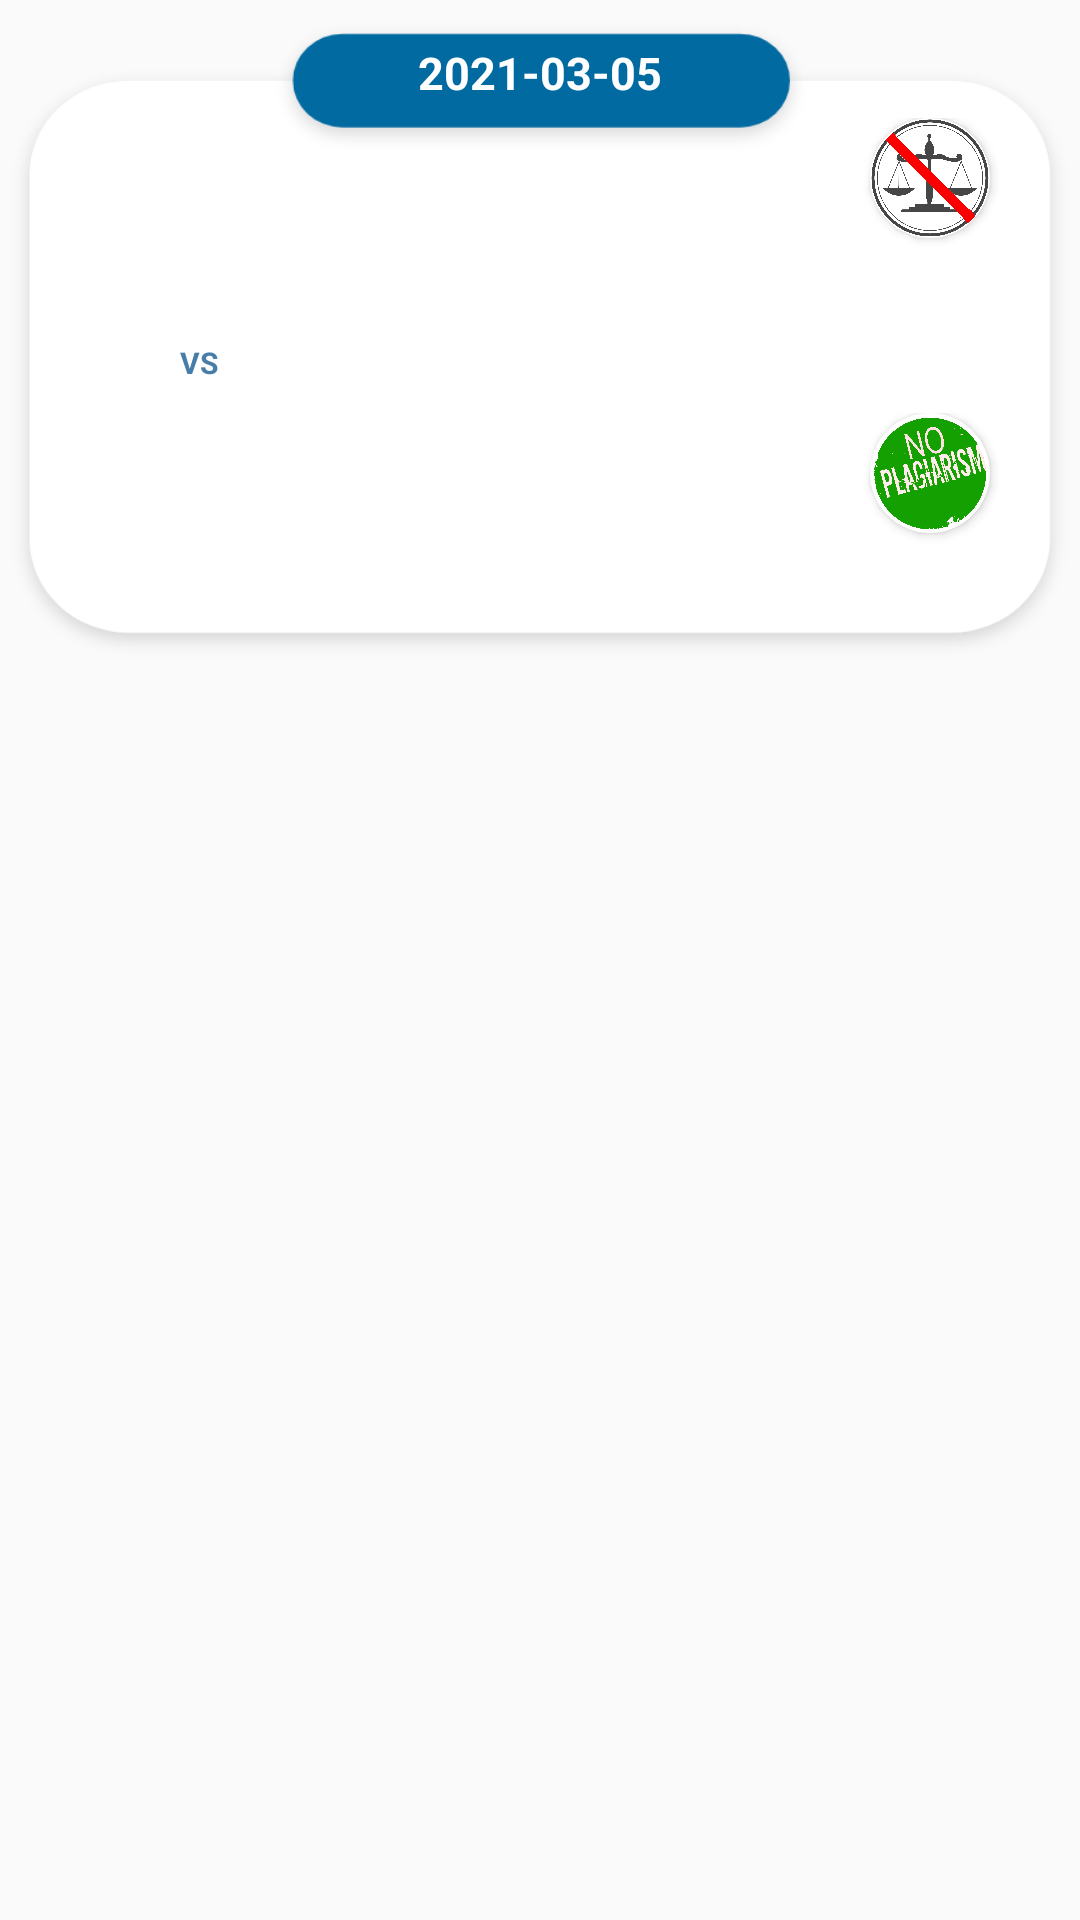

Where to tap for icons on this 1080px x 1920px app screen, as point (x, y):
bilancia grigia sbarrata: point (930, 178)
